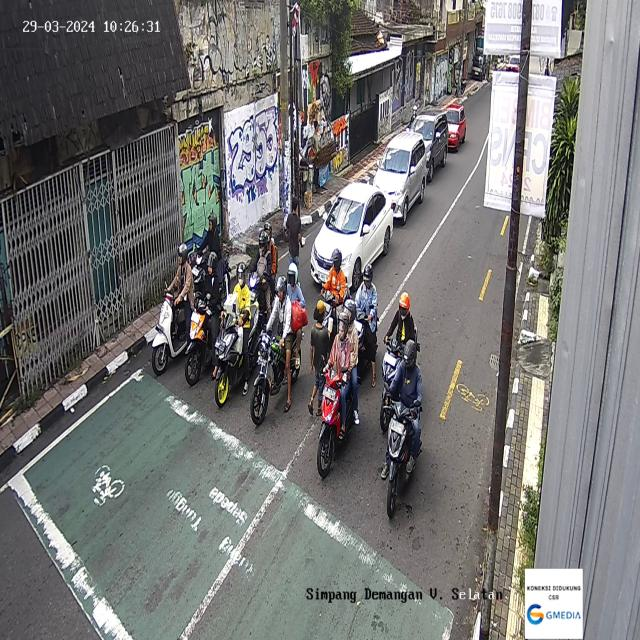car: (310, 182, 394, 292), (372, 130, 427, 225), (407, 110, 449, 183), (444, 103, 466, 152)
motorcycle: (248, 263, 307, 422), (379, 337, 425, 519), (316, 301, 357, 479), (213, 261, 260, 408), (151, 244, 194, 376), (378, 291, 418, 430), (184, 252, 225, 386), (192, 210, 232, 298), (354, 262, 380, 385), (248, 220, 279, 315), (318, 248, 350, 340)
